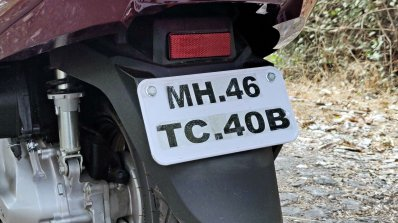doublelinenumberplate: (136, 66, 298, 167)
